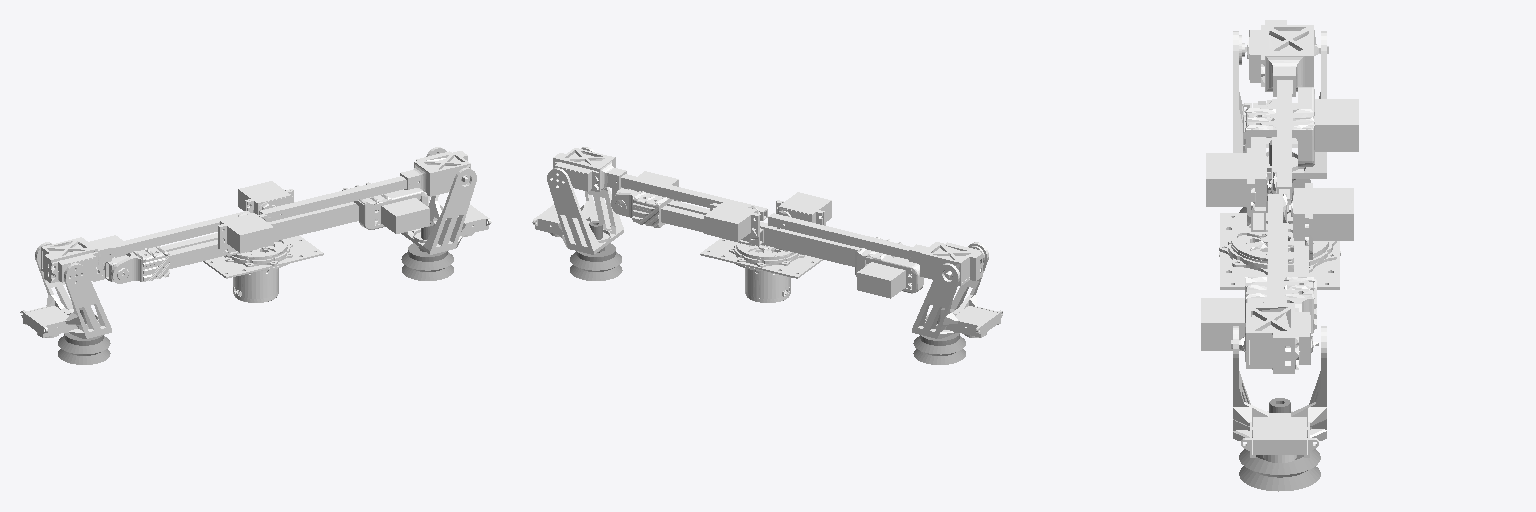
robot.urdf — arm:
<?xml version="1.0" encoding="utf-8"?>
<!-- This URDF was automatically created by SolidWorks to URDF Exporter! Originally created by Stephen Brawner (brawner@gmail.com) 
     Commit Version: 1.6.0-4-g7f85cfe  Build Version: 1.6.7995.38578
     For more information, please see http://wiki.ros.org/sw_urdf_exporter -->
<robot
  name="arm">
  <ros2_control name="arm_hw" type="system">
    <hardware>
      <plugin>mujoco_ros2_control/MujocoSystem</plugin>
    </hardware>

    <joint name="yuntai">
      <command_interface name="effort"/>
      <state_interface name="position">
        <param name="initial_value">0.0</param>
      </state_interface>
      <state_interface name="velocity">
        <param name="initial_value">0.0</param>
      </state_interface>
      <state_interface name="effort"/>
    </joint>

    <joint name="left1">
      <command_interface name="effort"/>
      <state_interface name="position">
        <param name="initial_value">0.0</param>
      </state_interface>
      <state_interface name="velocity">
        <param name="initial_value">0.0</param>
      </state_interface>
      <state_interface name="effort"/>
    </joint>

    <joint name="left2">
      <command_interface name="effort"/>
      <state_interface name="position">
        <param name="initial_value">0.0</param>
      </state_interface>
      <state_interface name="velocity">
        <param name="initial_value">0.0</param>
      </state_interface>
      <state_interface name="effort"/>
    </joint>

    <joint name="left3">
      <command_interface name="effort"/>
      <state_interface name="position">
        <param name="initial_value">0.0</param>
      </state_interface>
      <state_interface name="velocity">
        <param name="initial_value">0.0</param>
      </state_interface>
      <state_interface name="effort"/>
    </joint>

    <joint name="right1">
      <command_interface name="effort"/>
      <state_interface name="position">
        <param name="initial_value">0.0</param>
      </state_interface>
      <state_interface name="velocity">
        <param name="initial_value">0.0</param>
      </state_interface>
      <state_interface name="effort"/>
    </joint>

    <joint name="right2">
      <command_interface name="effort"/>
      <state_interface name="position">
        <param name="initial_value">0.0</param>
      </state_interface>
      <state_interface name="velocity">
        <param name="initial_value">0.0</param>
      </state_interface>
      <state_interface name="effort"/>
    </joint>

    <joint name="right3">
      <command_interface name="effort"/>
      <state_interface name="position">
        <param name="initial_value">0.0</param>
      </state_interface>
      <state_interface name="velocity">
        <param name="initial_value">0.0</param>
      </state_interface>
      <state_interface name="effort"/>
    </joint>
  </ros2_control>

  <link
    name="base_link">
    <inertial>
      <origin
        xyz="-3.90374907748708E-05 -1.17155978242994E-06 0.0401493283700913"
        rpy="0 0 0" />
      <mass
        value="0.066822750433732" />
      <inertia
        ixx="2.37877298337049E-05"
        ixy="-4.69195441128232E-09"
        ixz="-5.26909185423461E-08"
        iyy="3.41945671202783E-05"
        iyz="4.18783052774254E-10"
        izz="5.61602575377852E-05" />
    </inertial>
    <visual>
      <origin
        xyz="0 0 0"
        rpy="0 0 0" />
      <geometry>
        <mesh
          filename="package://arm/model/base_link.STL" />
      </geometry>
      <material
        name="">
        <color
          rgba="1 1 1 1" />
      </material>
    </visual>
    <collision>
      <origin
        xyz="0 0 0"
        rpy="0 0 0" />
      <geometry>
        <mesh
          filename="package://arm/model/base_link.STL" />
      </geometry>
    </collision>
  </link>
  <link
    name="yuntai">
    <inertial>
      <origin
        xyz="4.79226458516627E-05 4.64704444675529E-06 0.00964528811035716"
        rpy="0 0 0" />
      <mass
        value="0.10124390270621" />
      <inertia
        ixx="1.42122615453833E-05"
        ixy="1.03843126930758E-07"
        ixz="3.05080283844164E-19"
        iyy="0.000297591413392526"
        iyz="1.22599577202126E-19"
        izz="0.000304591907863365" />
    </inertial>
    <visual>
      <origin
        xyz="0 0 0"
        rpy="0 0 0" />
      <geometry>
        <mesh
          filename="package://arm/model/yuntai.STL" />
      </geometry>
      <material
        name="">
        <color
          rgba="1 1 1 1" />
      </material>
    </visual>
    <collision>
      <origin
        xyz="0 0 0"
        rpy="0 0 0" />
      <geometry>
        <mesh
          filename="package://arm/model/yuntai.STL" />
      </geometry>
    </collision>
  </link>
  <joint
    name="yuntai"
    type="revolute">
    <origin
      xyz="0 0 0.0565"
      rpy="0 0 0" />
    <parent
      link="base_link" />
    <child
      link="yuntai" />
    <axis
      xyz="0 0 -1" />
    <limit
      lower="0"
      upper="0"
      effort="0"
      velocity="0" />
  </joint>
  <link
    name="left1">
    <inertial>
      <origin
        xyz="0.0866316701389907 0.0108088257221086 0.0203964571498735"
        rpy="0 0 0" />
      <mass
        value="0.0724494118638427" />
      <inertia
        ixx="1.56579468201165E-05"
        ixy="8.08656112402772E-07"
        ixz="2.21273720043906E-06"
        iyy="4.5949640630926E-05"
        iyz="4.57042647800357E-07"
        izz="3.86923827627708E-05" />
    </inertial>
    <visual>
      <origin
        xyz="0 0 0"
        rpy="0 0 0" />
      <geometry>
        <mesh
          filename="package://arm/model/left1.STL" />
      </geometry>
      <material
        name="">
        <color
          rgba="1 1 1 1" />
      </material>
    </visual>
    <collision>
      <origin
        xyz="0 0 0"
        rpy="0 0 0" />
      <geometry>
        <mesh
          filename="package://arm/model/left1.STL" />
      </geometry>
    </collision>
  </link>
  <joint
    name="left1"
    type="revolute">
    <origin
      xyz="-0.165 0.00625 0.01"
      rpy="1.5708 0 0" />
    <parent
      link="yuntai" />
    <child
      link="left1" />
    <axis
      xyz="0 0 1" />
    <limit
      lower="0"
      upper="0"
      effort="0"
      velocity="0" />
  </joint>
  <link
    name="left2">
    <inertial>
      <origin
        xyz="0.178348318618332 -8.40190972350996E-10 -0.00507432686743625"
        rpy="0 0 0" />
      <mass
        value="0.0594508258557591" />
      <inertia
        ixx="8.83718900466966E-06"
        ixy="6.57687563080586E-13"
        ixz="1.52335567782272E-07"
        iyy="4.91263271010238E-05"
        iyz="-3.74306623710152E-13"
        izz="4.5031837913994E-05" />
    </inertial>
    <visual>
      <origin
        xyz="0 0 0"
        rpy="0 0 0" />
      <geometry>
        <mesh
          filename="package://arm/model/left2.STL" />
      </geometry>
      <material
        name="">
        <color
          rgba="1 1 1 1" />
      </material>
    </visual>
    <collision>
      <origin
        xyz="0 0 0"
        rpy="0 0 0" />
      <geometry>
        <mesh
          filename="package://arm/model/left2.STL" />
      </geometry>
    </collision>
  </link>
  <joint
    name="left2"
    type="revolute">
    <origin
      xyz="0.14795 0.02 0.00935"
      rpy="0 0 -3.1416" />
    <parent
      link="left1" />
    <child
      link="left2" />
    <axis
      xyz="0 0 -1" />
    <limit
      lower="0"
      upper="0"
      effort="0"
      velocity="0" />
  </joint>
  <link
    name="left3">
    <inertial>
      <origin
        xyz="0.0546460458217438 0.000352821835570366 -0.0255515985489675"
        rpy="0 0 0" />
      <mass
        value="0.0717898152307374" />
      <inertia
        ixx="3.59837239679069E-05"
        ixy="4.94697293520157E-06"
        ixz="-5.26054001267702E-07"
        iyy="4.52279808959423E-05"
        iyz="-1.71037224809756E-07"
        izz="3.11740032099197E-05" />
    </inertial>
    <visual>
      <origin
        xyz="0 0 0"
        rpy="0 0 0" />
      <geometry>
        <mesh
          filename="package://arm/model/left3.STL" />
      </geometry>
      <material
        name="">
        <color
          rgba="1 1 1 1" />
      </material>
    </visual>
    <collision>
      <origin
        xyz="0 0 0"
        rpy="0 0 0" />
      <geometry>
        <mesh
          filename="package://arm/model/left3.STL" />
      </geometry>
    </collision>
  </link>
  <joint
    name="left3"
    type="revolute">
    <origin
      xyz="0.213 0 0.0229"
      rpy="0 0 1.5708" />
    <parent
      link="left2" />
    <child
      link="left3" />
    <axis
      xyz="0 0 -1" />
    <limit
      lower="0"
      upper="0"
      effort="0"
      velocity="0" />
  </joint>
  <link
    name="left4">
    <inertial>
      <origin
        xyz="-0.0213546888236643 -2.77555756156289E-17 -5.55111512312578E-17"
        rpy="0 0 0" />
      <mass
        value="0.098687873771068" />
      <inertia
        ixx="1.55691033654856E-05"
        ixy="6.02828591679511E-22"
        ixz="9.30147745187075E-21"
        iyy="2.00162772748723E-05"
        iyz="-3.3881317890172E-21"
        izz="2.00162772748723E-05" />
    </inertial>
    <visual>
      <origin
        xyz="0 0 0"
        rpy="0 0 0" />
      <geometry>
        <mesh
          filename="package://arm/model/left4.STL" />
      </geometry>
      <material
        name="">
        <color
          rgba="0.698039215686274 0.698039215686274 0.698039215686274 1" />
      </material>
    </visual>
    <collision>
      <origin
        xyz="0 0 0"
        rpy="0 0 0" />
      <geometry>
        <mesh
          filename="package://arm/model/left4.STL" />
      </geometry>
    </collision>
  </link>
  <joint
    name="left4"
    type="fixed">
    <origin
      xyz="0.1058 0.0275 -0.026"
      rpy="0 0 0" />
    <parent
      link="left3" />
    <child
      link="left4" />
    <axis
      xyz="0 0 0" />
  </joint>
  <link
    name="right1">
    <inertial>
      <origin
        xyz="0.0866316701389893 0.0108088257221104 0.0203964571498706"
        rpy="0 0 0" />
      <mass
        value="0.0724494118638428" />
      <inertia
        ixx="1.56579468201166E-05"
        ixy="8.08656112402829E-07"
        ixz="2.21273720043918E-06"
        iyy="4.59496406309261E-05"
        iyz="4.57042647800623E-07"
        izz="3.86923827627708E-05" />
    </inertial>
    <visual>
      <origin
        xyz="0 0 0"
        rpy="0 0 0" />
      <geometry>
        <mesh
          filename="package://arm/model/right1.STL" />
      </geometry>
      <material
        name="">
        <color
          rgba="1 1 1 1" />
      </material>
    </visual>
    <collision>
      <origin
        xyz="0 0 0"
        rpy="0 0 0" />
      <geometry>
        <mesh
          filename="package://arm/model/right1.STL" />
      </geometry>
    </collision>
  </link>
  <joint
    name="right1"
    type="revolute">
    <origin
      xyz="0.165 -0.00625 0.01"
      rpy="1.5708 0 3.1416" />
    <parent
      link="yuntai" />
    <child
      link="right1" />
    <axis
      xyz="0 0 1" />
    <limit
      lower="0"
      upper="0"
      effort="0"
      velocity="0" />
  </joint>
  <link
    name="right2">
    <inertial>
      <origin
        xyz="0.178348318624939 1.31277283488274E-09 0.00507432710242385"
        rpy="0 0 0" />
      <mass
        value="0.059450825942565" />
      <inertia
        ixx="8.83718890901745E-06"
        ixy="-8.75582403248343E-13"
        ixz="-1.52335729337375E-07"
        iyy="4.9126326746524E-05"
        iyz="-1.17657231770686E-12"
        izz="4.50318381903904E-05" />
    </inertial>
    <visual>
      <origin
        xyz="0 0 0"
        rpy="0 0 0" />
      <geometry>
        <mesh
          filename="package://arm/model/right2.STL" />
      </geometry>
      <material
        name="">
        <color
          rgba="1 1 1 1" />
      </material>
    </visual>
    <collision>
      <origin
        xyz="0 0 0"
        rpy="0 0 0" />
      <geometry>
        <mesh
          filename="package://arm/model/right2.STL" />
      </geometry>
    </collision>
  </link>
  <joint
    name="right2"
    type="revolute">
    <origin
      xyz="0.14795 0.02 0.00935"
      rpy="-3.1416 0 -3.1416" />
    <parent
      link="right1" />
    <child
      link="right2" />
    <axis
      xyz="0 0 1" />
    <limit
      lower="0"
      upper="0"
      effort="0"
      velocity="0" />
  </joint>
  <link
    name="right3">
    <inertial>
      <origin
        xyz="0.0552233778617137 -0.000356549376091225 0.0258194078186913"
        rpy="0 0 0" />
      <mass
        value="0.0710392896004507" />
      <inertia
        ixx="3.59647100183011E-05"
        ixy="-4.94697293520157E-06"
        ixz="5.26054001267607E-07"
        iyy="4.52089669463365E-05"
        iyz="-1.71037224810022E-07"
        izz="3.1137418350727E-05" />
    </inertial>
    <visual>
      <origin
        xyz="0 0 0"
        rpy="0 0 0" />
      <geometry>
        <mesh
          filename="package://arm/model/right3.STL" />
      </geometry>
      <material
        name="">
        <color
          rgba="1 1 1 1" />
      </material>
    </visual>
    <collision>
      <origin
        xyz="0 0 0"
        rpy="0 0 0" />
      <geometry>
        <mesh
          filename="package://arm/model/right3.STL" />
      </geometry>
    </collision>
  </link>
  <joint
    name="right3"
    type="revolute">
    <origin
      xyz="0.213 0 -0.0229"
      rpy="0 0 -1.5708" />
    <parent
      link="right2" />
    <child
      link="right3" />
    <axis
      xyz="0 0 1" />
    <limit
      lower="0"
      upper="0"
      effort="0"
      velocity="0" />
  </joint>
  <link
    name="right4">
    <inertial>
      <origin
        xyz="-0.0213546888236643 0 -2.77555756156289E-17"
        rpy="0 0 0" />
      <mass
        value="0.098687873771068" />
      <inertia
        ixx="1.55691033654856E-05"
        ixy="1.18916728189152E-21"
        ixz="1.70362808084513E-22"
        iyy="2.00162772748723E-05"
        iyz="0"
        izz="2.00162772748723E-05" />
    </inertial>
    <visual>
      <origin
        xyz="0 0 0"
        rpy="0 0 0" />
      <geometry>
        <mesh
          filename="package://arm/model/right4.STL" />
      </geometry>
      <material
        name="">
        <color
          rgba="0.698039215686274 0.698039215686274 0.698039215686274 1" />
      </material>
    </visual>
    <collision>
      <origin
        xyz="0 0 0"
        rpy="0 0 0" />
      <geometry>
        <mesh
          filename="package://arm/model/right4.STL" />
      </geometry>
    </collision>
  </link>
  <joint
    name="right4"
    type="fixed">
    <origin
      xyz="0.1058 -0.0274999999999999 0.0260000000000004"
      rpy="0 0 0" />
    <parent
      link="right3" />
    <child
      link="right4" />
    <axis
      xyz="0 -0.693904698830335 -0.720066850327927" />
  </joint>
</robot>

--- Render facts (derived) ---
The picture shows the robot from 3 angles, left to right: view 1: azimuth 30°, elevation 25°; view 2: azimuth 150°, elevation 25°; view 3: azimuth 270°, elevation 25°; orthographic projection.
Robot: arm — 10 links, 9 joints (7 revolute, 2 fixed); root link base_link; default pose: every joint at zero.
Visible links, largest first — view 1: yuntai, left1, left3, right2, left2, base_link, right3, right1, right4, left4; view 2: yuntai, right3, right1, left2, left3, right2, base_link, left1, right4, left4; view 3: left1, right2, left2, yuntai, right1, right3, base_link, right4, left3.
Boxes of the visible links, <box> form: yuntai: <box>89,189,429,281</box>; left1: <box>89,213,273,283</box>; left3: <box>20,242,111,338</box>; right2: <box>259,151,470,221</box>; left2: <box>41,211,251,282</box>; base_link: <box>203,235,323,302</box>; right3: <box>401,147,491,254</box>; right1: <box>238,181,427,229</box>; right4: <box>401,221,453,280</box>; left4: <box>58,308,110,364</box>; yuntai: <box>615,171,911,298</box>; right3: <box>532,147,623,254</box>; right1: <box>611,187,763,245</box>; left2: <box>768,210,983,285</box>; left3: <box>912,242,1002,338</box>; right2: <box>553,148,767,220</box>; base_link: <box>700,238,822,302</box>; left1: <box>776,192,923,293</box>; right4: <box>570,221,622,280</box>; left4: <box>913,308,965,364</box>; left1: <box>1206,87,1314,231</box>; right2: <box>1231,194,1318,373</box>; left2: <box>1245,20,1328,200</box>; yuntai: <box>1201,99,1358,350</box>; right1: <box>1245,183,1353,361</box>; right3: <box>1233,326,1326,462</box>; base_link: <box>1219,213,1340,289</box>; right4: <box>1239,398,1320,491</box>; left3: <box>1233,31,1326,178</box>.
Size in the robot's own frame: 0.5251 by 0.1043 by 0.1202 metres.
Meshes: 10 distinct files referenced, 10 mesh visuals loaded (10 binary STL).
